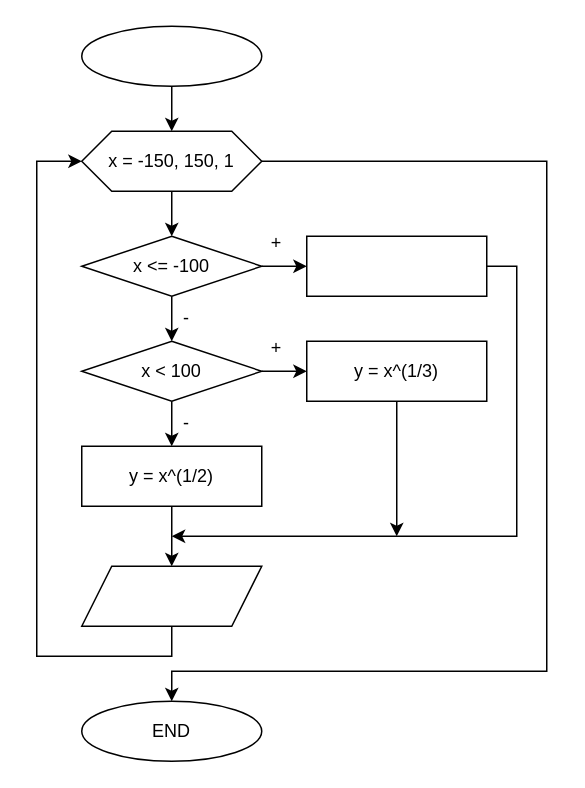
The diagram is 585 pixels wide and 788 high, and some of its shapes have lost their labels. The box of each missing label's shape, as (x1, y1, x2, y2) in pixels:
OUTPUT y: (80, 565, 262, 626)
START: (80, 25, 262, 86)
y = x^(1/10): (305, 235, 487, 296)
